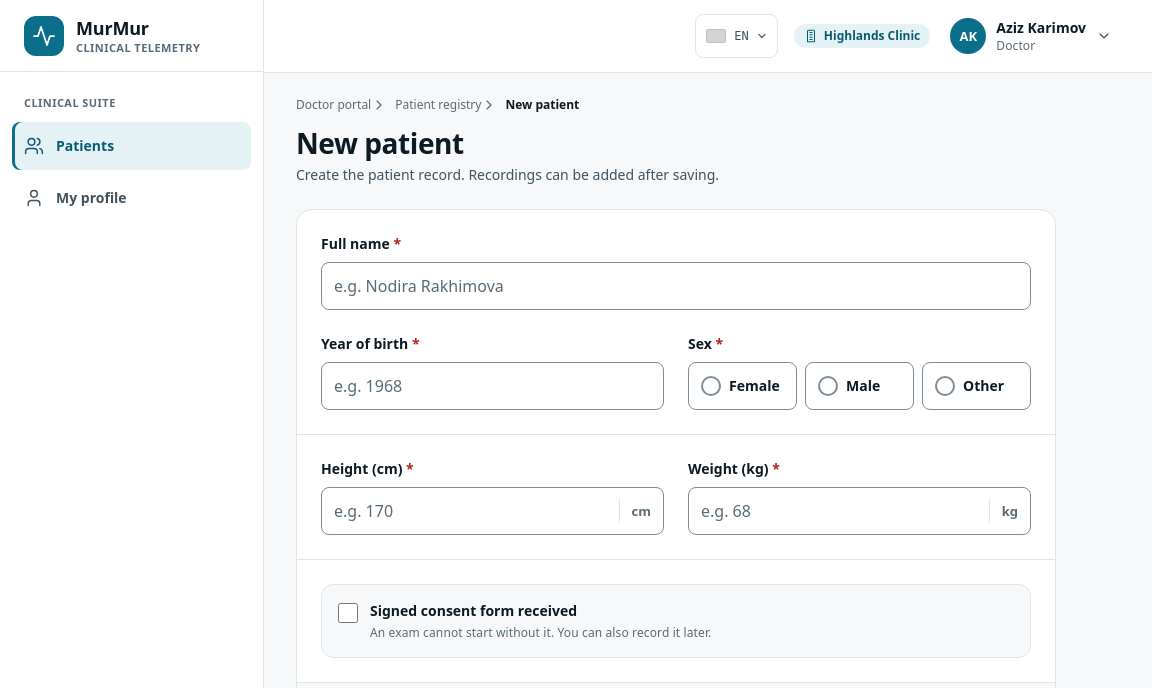
patient form › creating a patient sends clean numbers (70,5 → 70.5) and offers the next step
Step 1. Type "  Ali Valiyev " into the field labelled "Full name *" → (676, 286), box [334,263,1018,309]
Step 2. Type "19x90" into the field labelled "Year of birth *" → (492, 386), box [334,363,651,409]
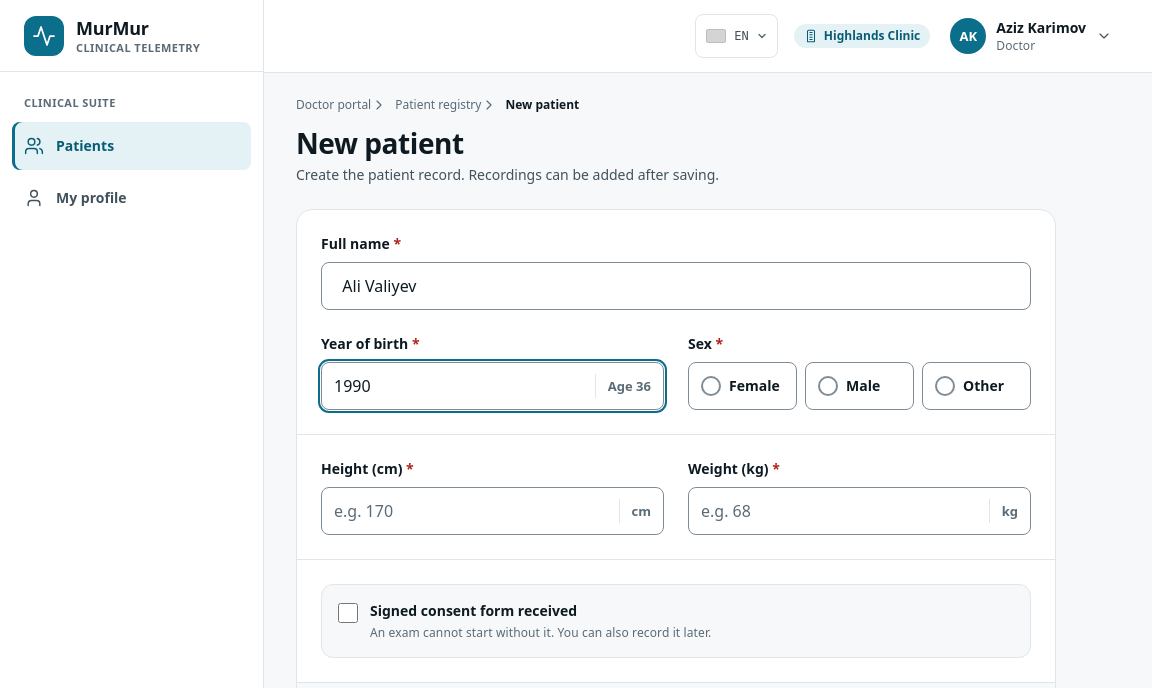
Check: the text "Age 36" is shown, box [595,374,651,398]
Step 3. Click the radio button labelled "Male" → (828, 386), box [818,376,838,396]
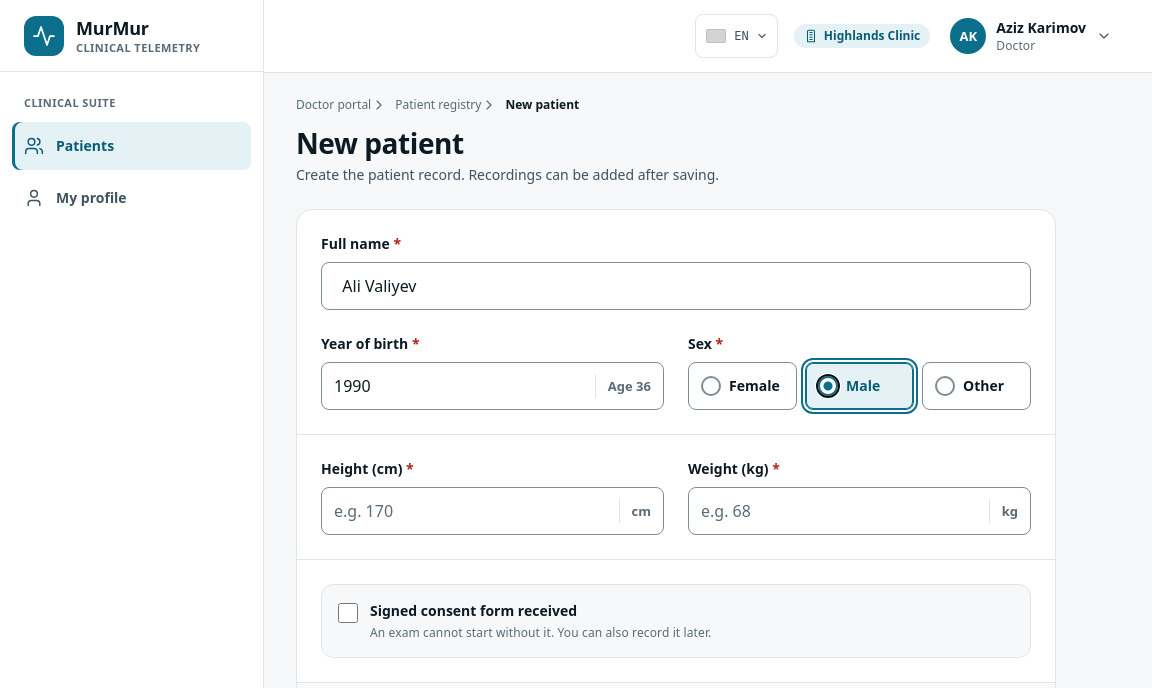
Step 4. Type "175" into the field labelled "Height (cm) *" → (472, 511), box [334,488,610,534]
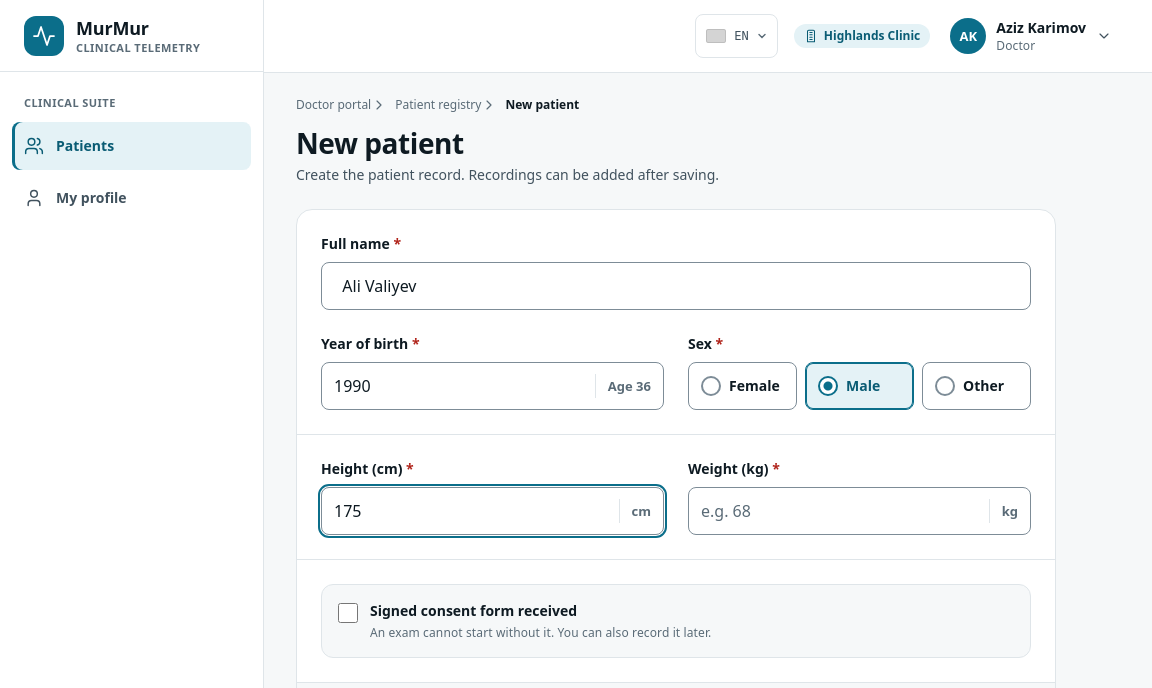
Step 5. Type "70,5" into the field labelled "Weight (kg) *" → (841, 511), box [701,488,981,534]
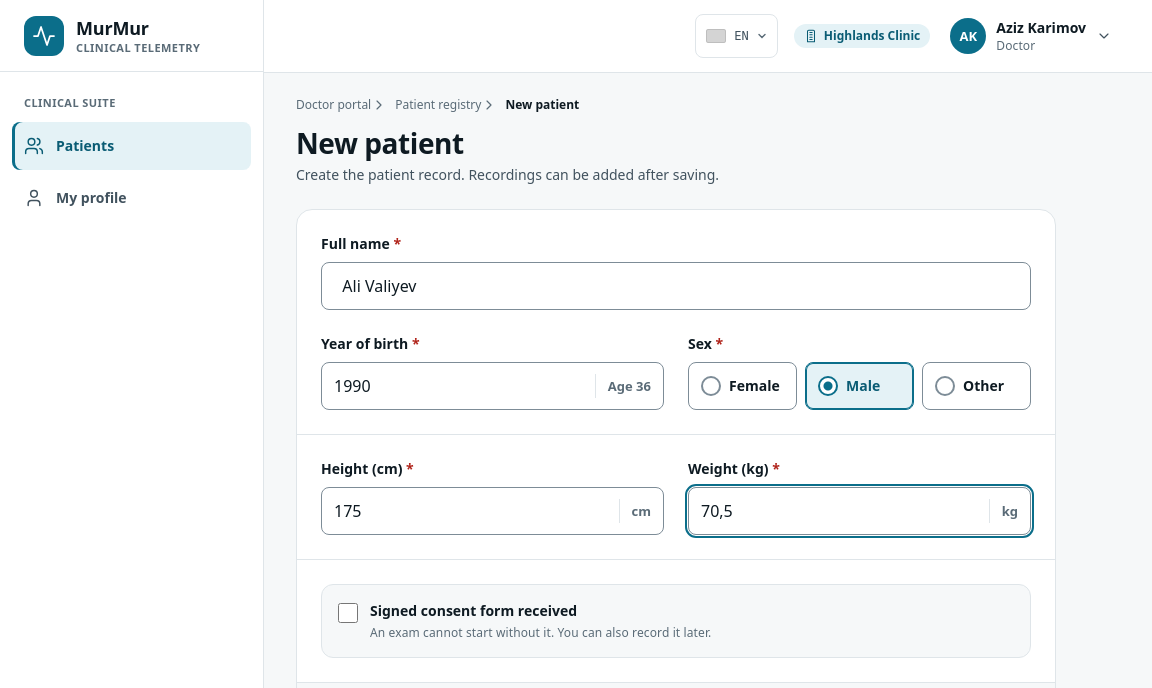
Step 6. Click the checkbox labelled "Signed consent form received" → (348, 613), box [338,603,358,623]
(page scrolled)
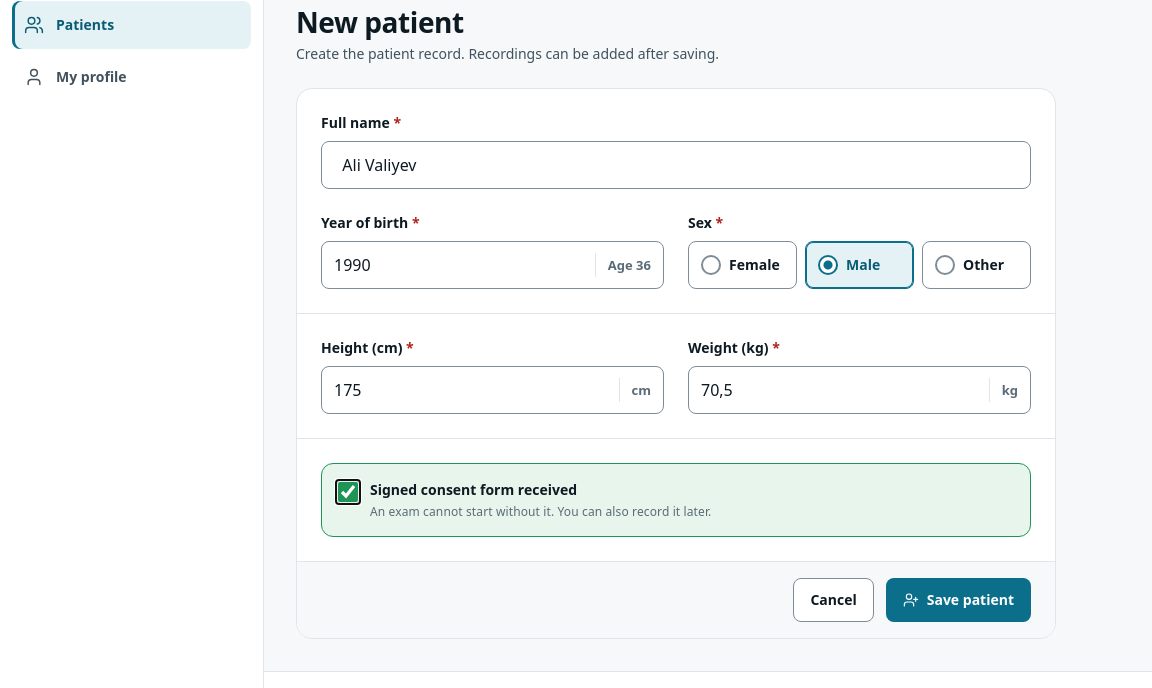
Step 7. Click the button "Save patient" → (958, 600), box [886,578,1031,622]
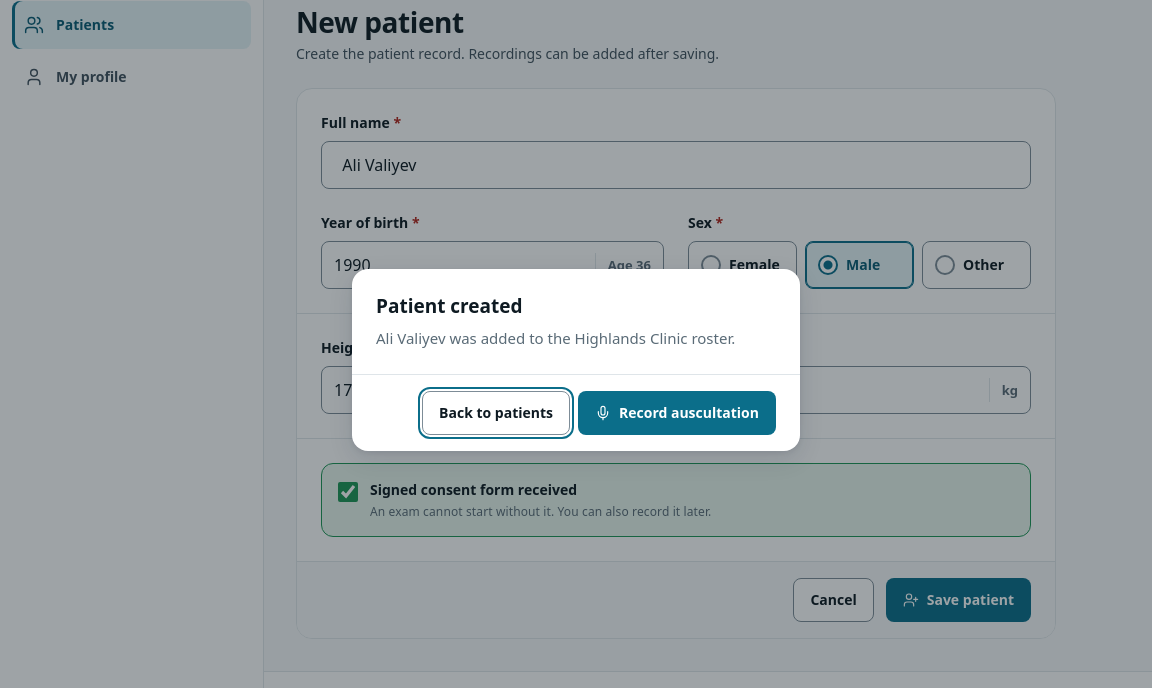
Check: the text "Ali Valiyev was added to the Highlands Clinic roster." is shown, box [376,327,776,350]
